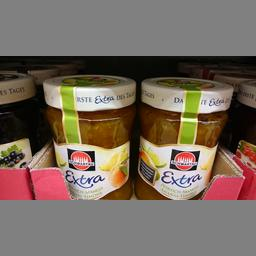jam: (135, 77, 234, 200), (41, 72, 136, 199)
